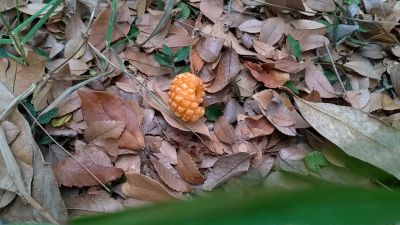eggs: (165, 71, 210, 125)
